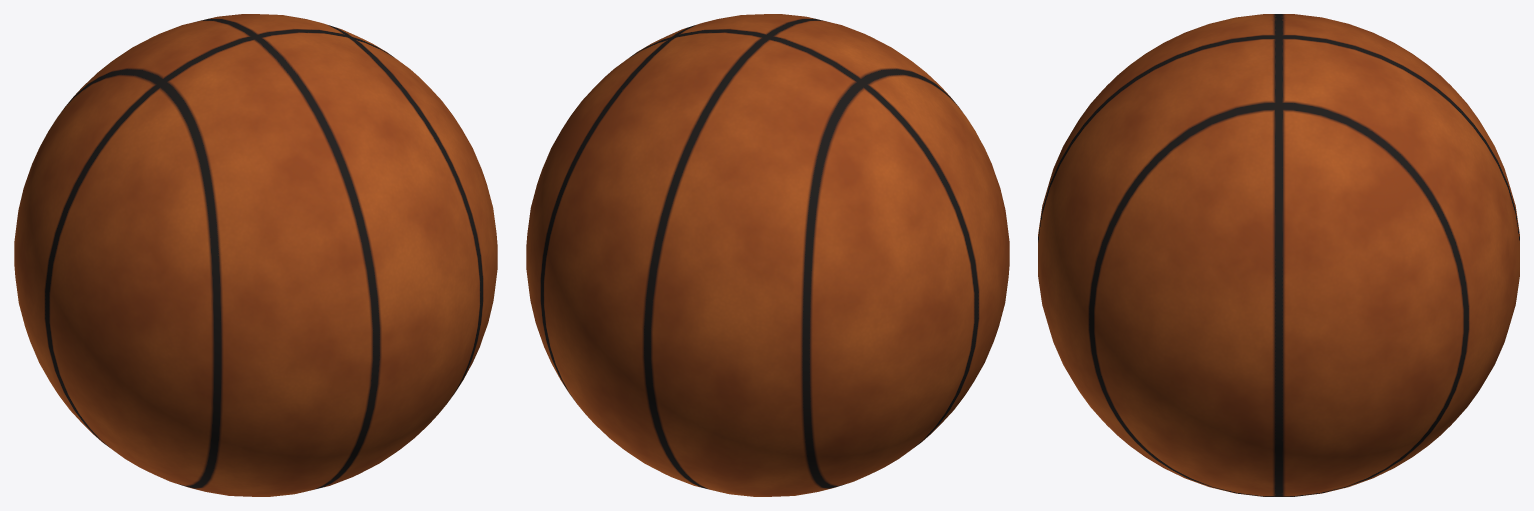
Rendered from NH_Basketball.fbx.
3 views of the same model, side by side, from view 1: azimuth 30°, elevation 25°; view 2: azimuth 150°, elevation 25°; view 3: azimuth 270°, elevation 25° (orthographic).
Parts seen in each view (by area): view 1: NH_Basketball; view 2: NH_Basketball; view 3: NH_Basketball.
Boxes of the visible parts, x1,y1,x2,y2 form: NH_Basketball: (14,14,497,496); NH_Basketball: (526,14,1009,496); NH_Basketball: (1038,14,1519,496).
Bounding box in the file's own units: 99.56 × 99.56 × 99.56.
